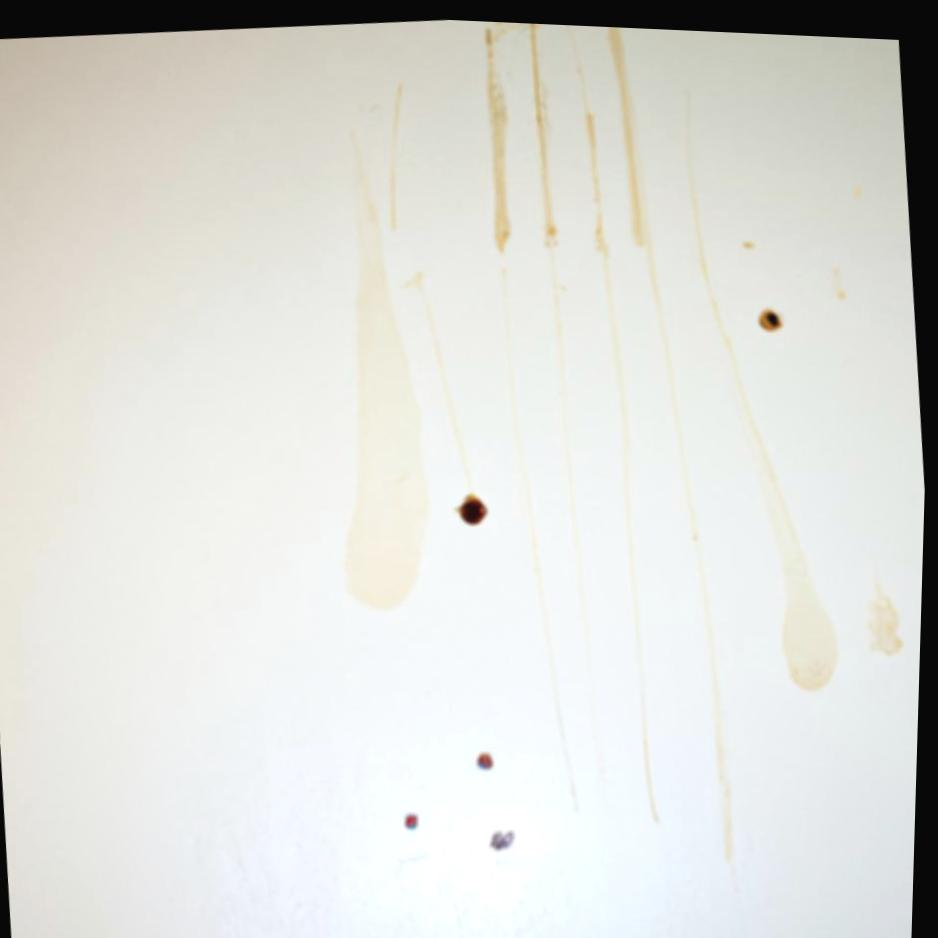Fire: (457, 489, 491, 521)
